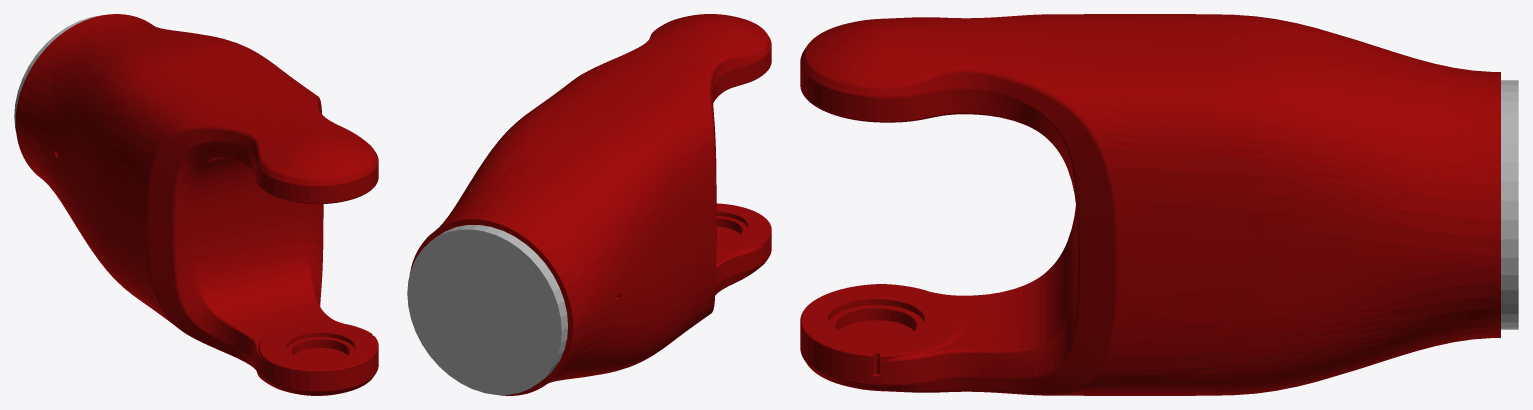
The picture shows the model from 3 angles, left to right: view 1: azimuth 30°, elevation 25°; view 2: azimuth 150°, elevation 25°; view 3: azimuth 270°, elevation 25°; orthographic projection. The views are drawn at different scales.
Visible parts, largest first — view 1: Link5; view 2: Link5; view 3: Link5.
Part boxes in pixels (left/top/right/bottom): Link5: left=14, top=14, right=378, bottom=395; Link5: left=407, top=14, right=771, bottom=395; Link5: left=800, top=14, right=1518, bottom=395.
Size of the model in its own units: 0.088 by 0.117 by 0.2215.
